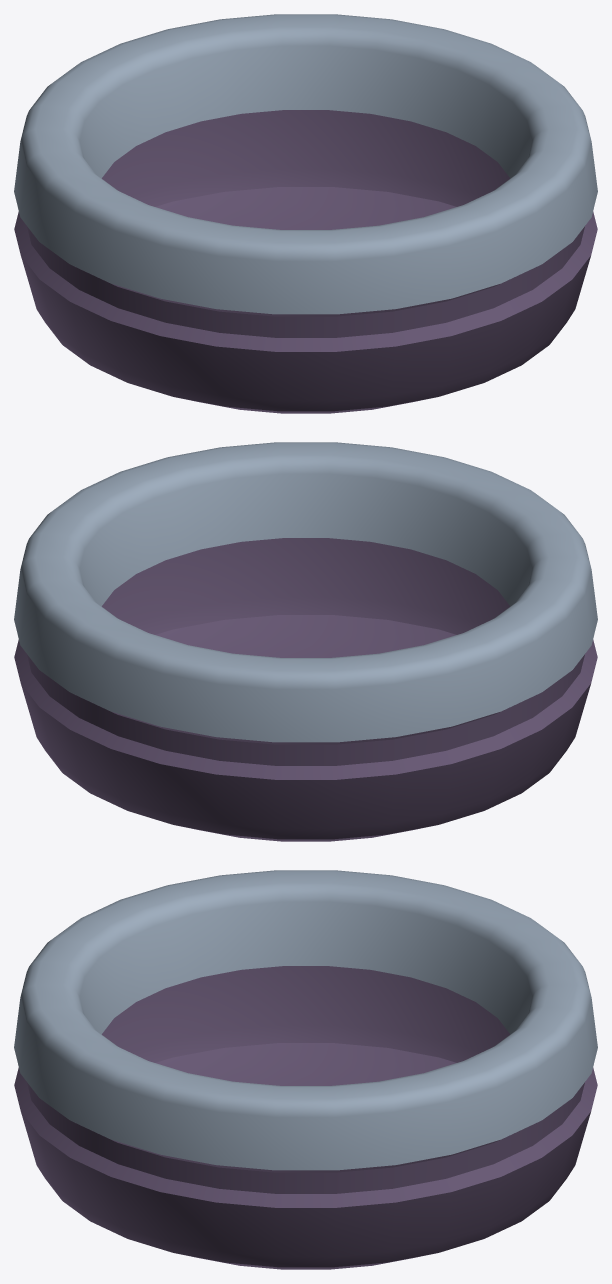
The model's file is FountainTop.fbx.
3 renders of one model, top to bottom at view 1: azimuth 30°, elevation 25°; view 2: azimuth 150°, elevation 25°; view 3: azimuth 270°, elevation 25°, orthographic.
Visible parts, largest first — view 1: FountainTop_LOD0; view 2: FountainTop_LOD0; view 3: FountainTop_LOD0.
Part boxes in pixels (bbox=[...]): FountainTop_LOD0: bbox=[14, 14, 597, 413]; FountainTop_LOD0: bbox=[14, 442, 597, 841]; FountainTop_LOD0: bbox=[14, 870, 597, 1269].
Size of what is drawn, in the model's own units: 97.06 by 35.84 by 97.59.
